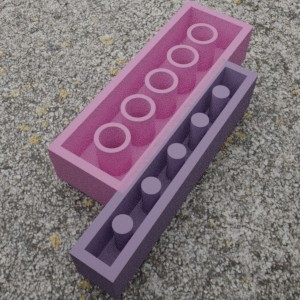lego: (68, 58, 258, 299), (46, 0, 253, 218)
